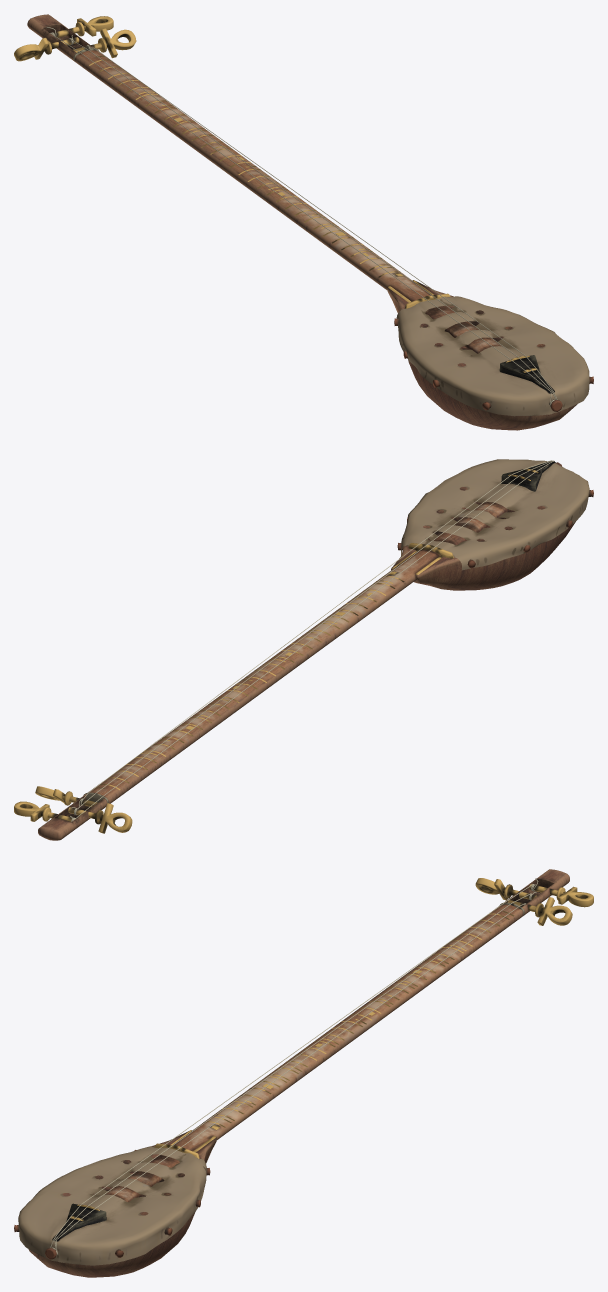
The model's file is egyptian_lyre.glb.
3 renders of one model, top to bottom at view 1: azimuth 30°, elevation 25°; view 2: azimuth 150°, elevation 25°; view 3: azimuth 330°, elevation 25°, orthographic.
Visible parts, largest first — view 1: lyre; view 2: lyre; view 3: lyre.
Part boxes in pixels (x1,y1,x2,y2): lyre: (14,14,593,430); lyre: (14,459,593,840); lyre: (14,869,593,1277).
Size of the model in its own units: 0.2472 by 0.137 by 1.63.
1 material, 1 textured.
